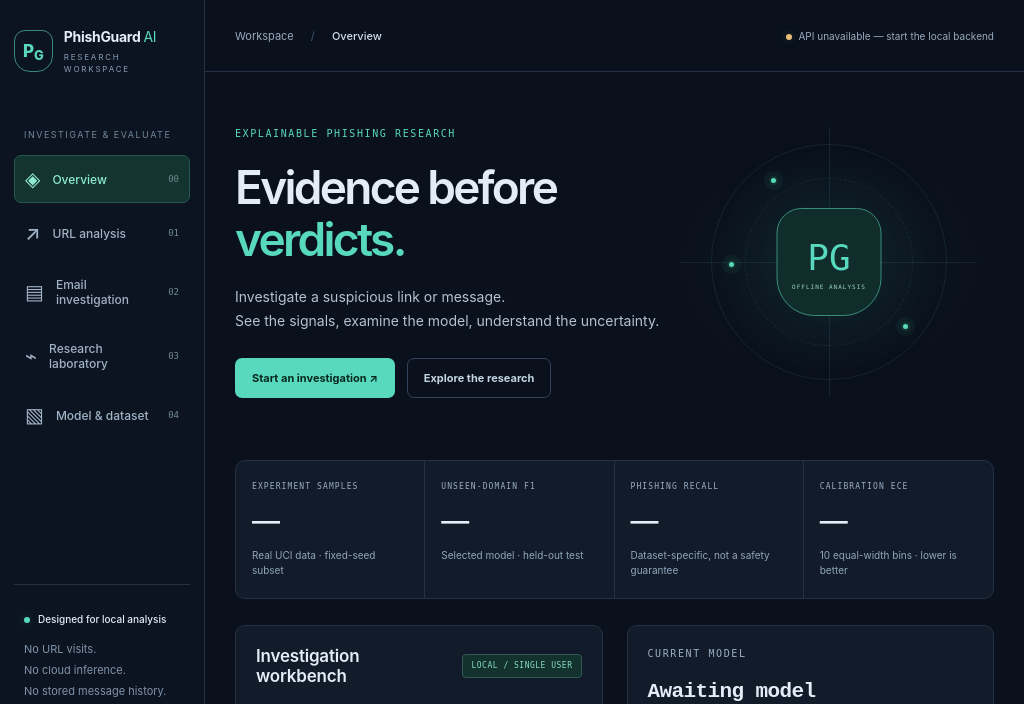
Test: supports main navigation and honest unavailable states
Expected: the text "API unavailable — start the local backend" is shown, [786,30,994,42]
Step 1. Click the button "↗ URL analysis 01" → coordinates (102, 233), box [14,209,190,257]
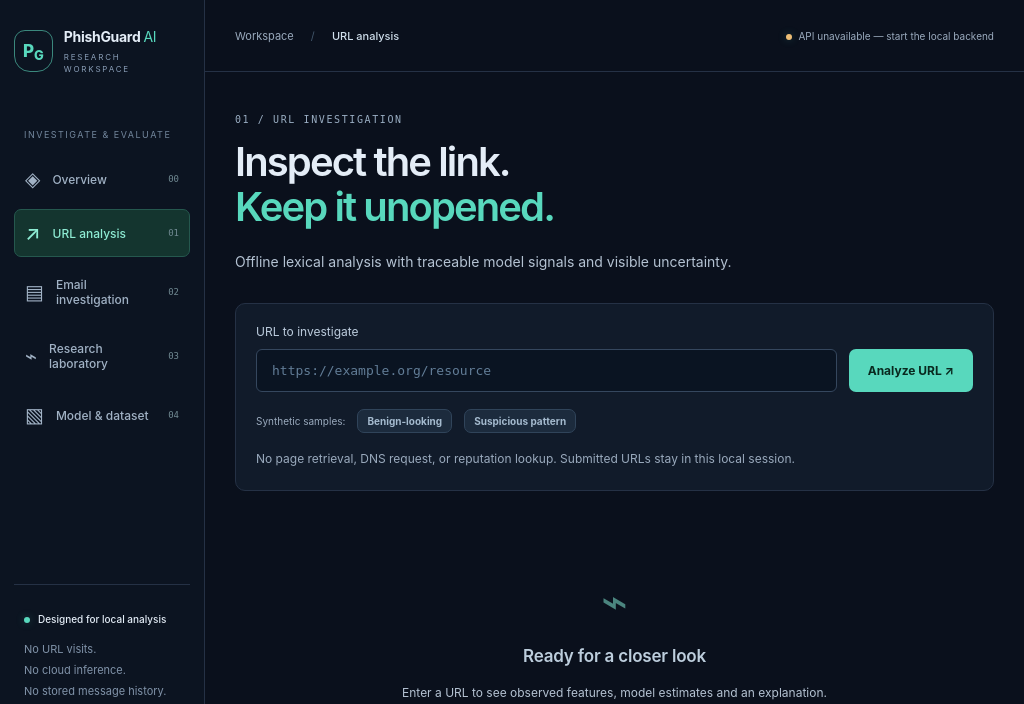
Result: the field labelled "URL to investigate" is shown at [256,349,837,392]
Step 2. Click the button "▤ Email investigation 02" → coordinates (102, 292), box [14,263,190,321]
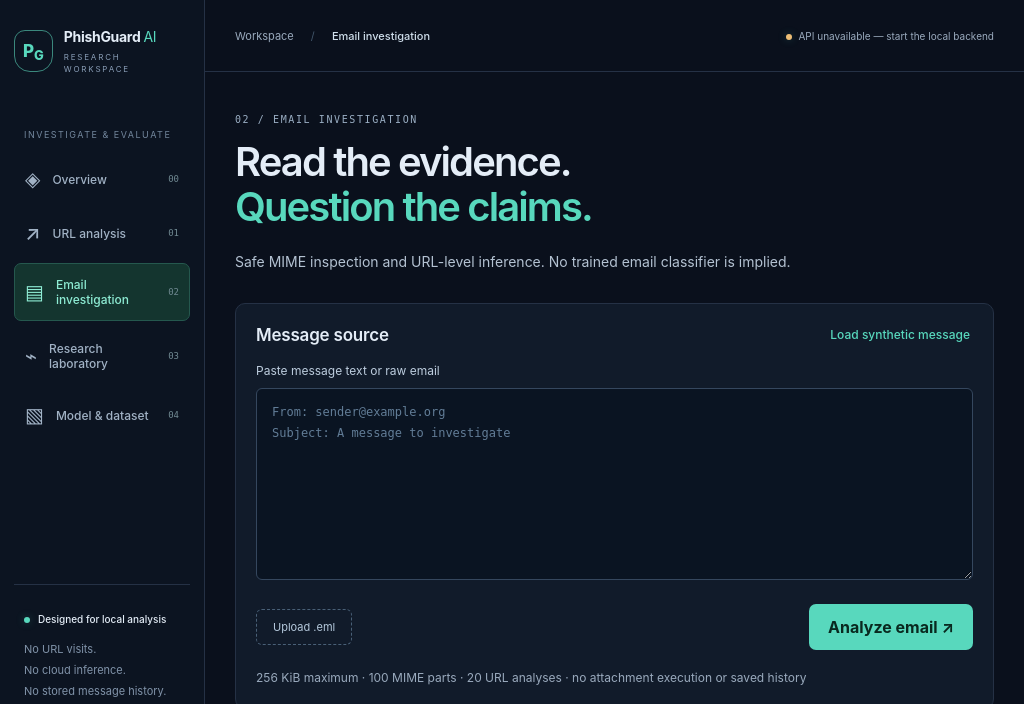
Result: the text box labelled "Paste message text or raw email" is shown at [256,388,973,580]
Step 3. Click the button "⌁ Research laboratory 03" → coordinates (102, 356), box [14,327,190,385]
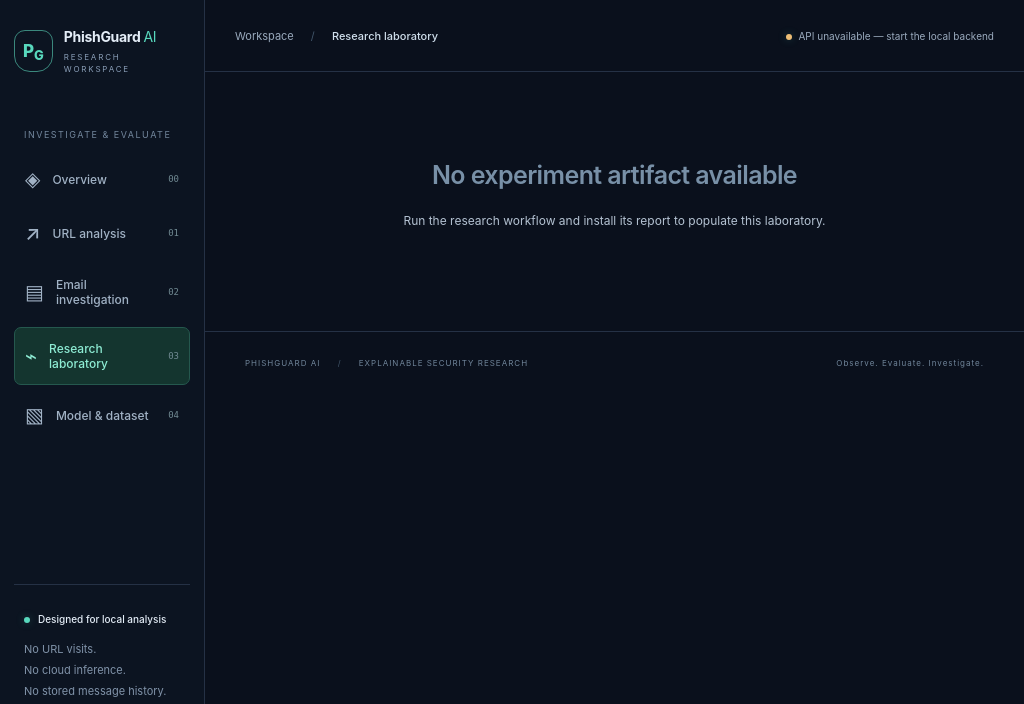
Result: the heading "No experiment artifact available" is shown at [432,160,797,190]
